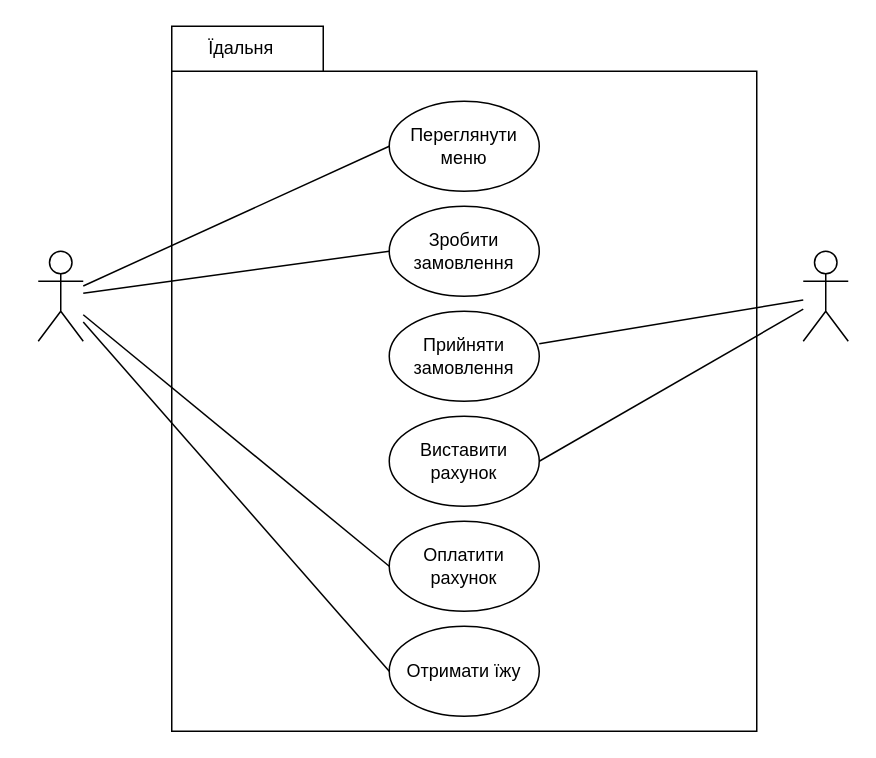
Image size: 876x758. Some labels were removed from this diagram. Here are the shapes that lost their labels. From the top down, the box of each, then its label:
(37, 250, 83, 341): Студент
(802, 250, 848, 341): Касир
